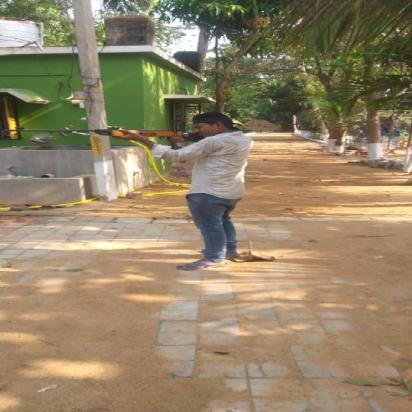Gun: (1, 125, 206, 144)
